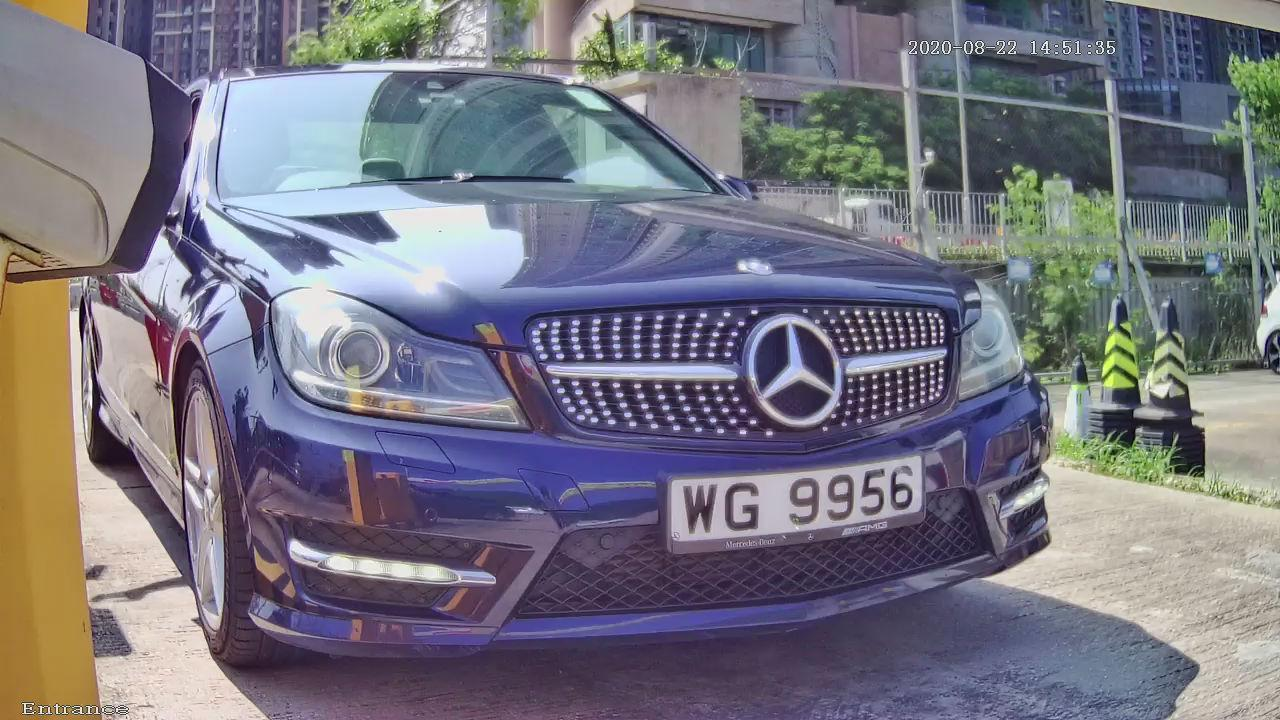Car: (29, 17, 1115, 701)
License Plate: (623, 406, 966, 579)
